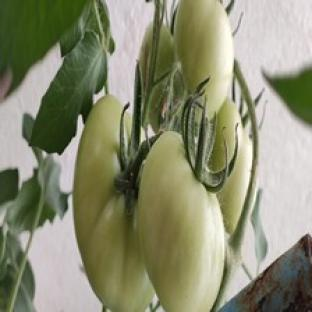Tomato: (73, 95, 154, 311), (138, 131, 225, 311), (211, 99, 252, 233), (148, 24, 175, 132)
